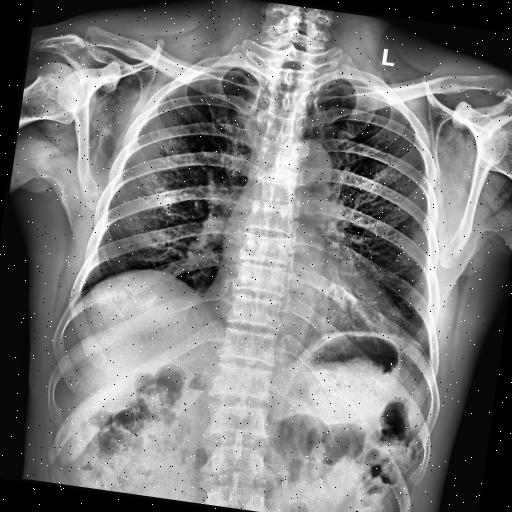0- Aortic enlargement: (280, 138, 340, 212), (282, 136, 340, 192), (278, 135, 336, 190)
3- Cardiomegaly: (192, 265, 402, 365), (194, 271, 412, 350), (200, 266, 402, 344)
